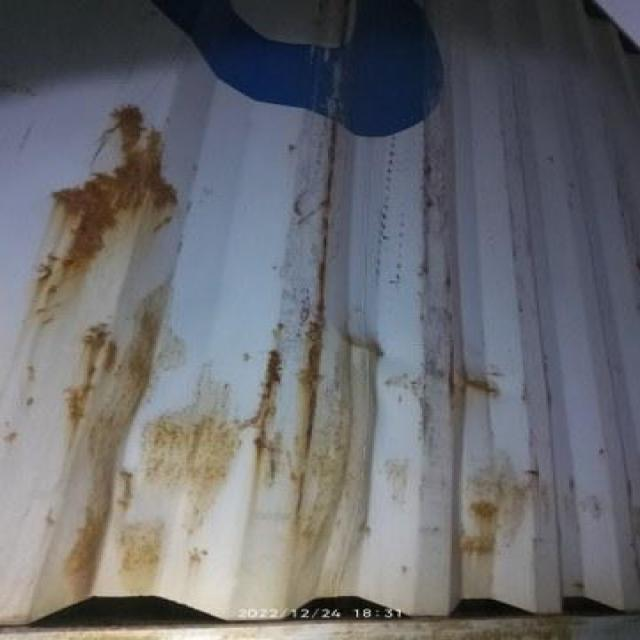Rust: (38, 106, 186, 246)
